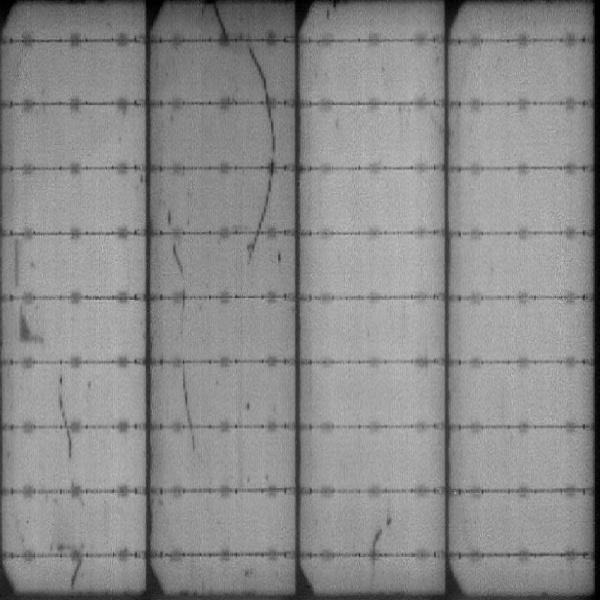scratch: (179, 362, 199, 448), (244, 47, 272, 99), (57, 367, 73, 455), (369, 516, 392, 575), (170, 246, 187, 312), (57, 544, 83, 585), (202, 4, 229, 40), (259, 171, 273, 232), (266, 105, 278, 163), (12, 241, 25, 282), (242, 233, 257, 262), (165, 212, 177, 228)
